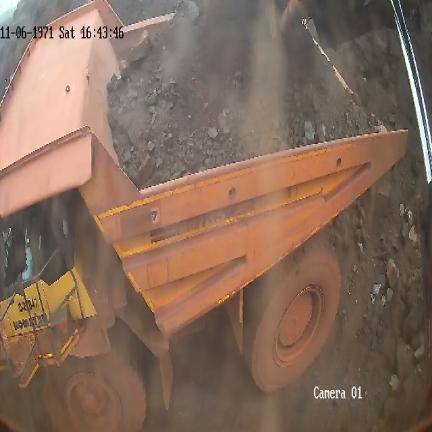pile: (108, 0, 379, 187), (326, 140, 431, 430), (315, 1, 416, 129)
